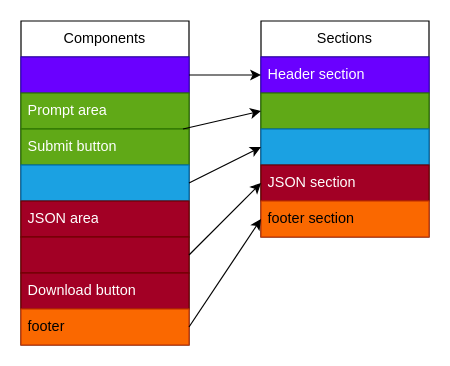
Image size: 450x366. Some labels were removed from this diagram. Each missing label, with the centre of its shape:
Copy button: [104,254]
Header: [104,74]
Message bloc: [104,182]
Message section: [344,146]
Prompt section: [344,110]
